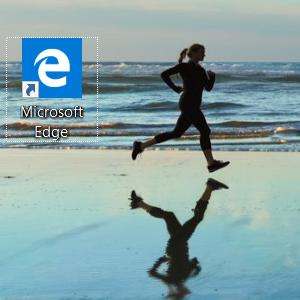edge: (21, 38, 82, 99)
